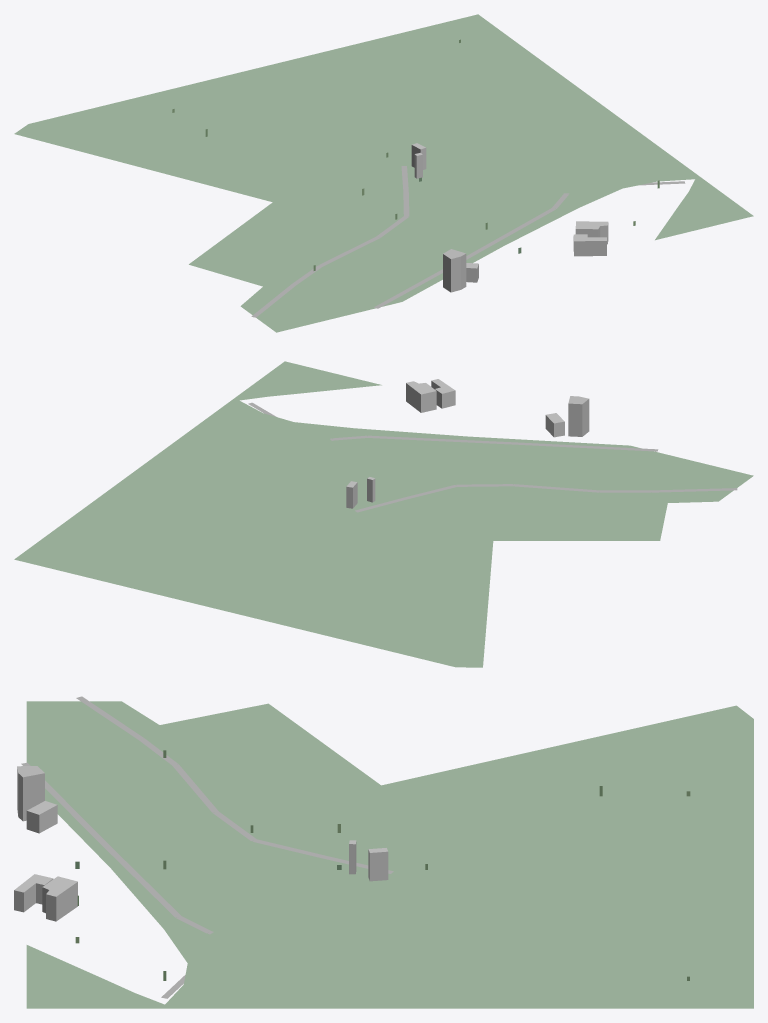
3 renders of one model, top to bottom at view 1: azimuth 30°, elevation 25°; view 2: azimuth 150°, elevation 25°; view 3: azimuth 270°, elevation 25°, orthographic. The views are drawn at different scales.
Bounding box in the file's own units: 504 × 34.99 × 509.
